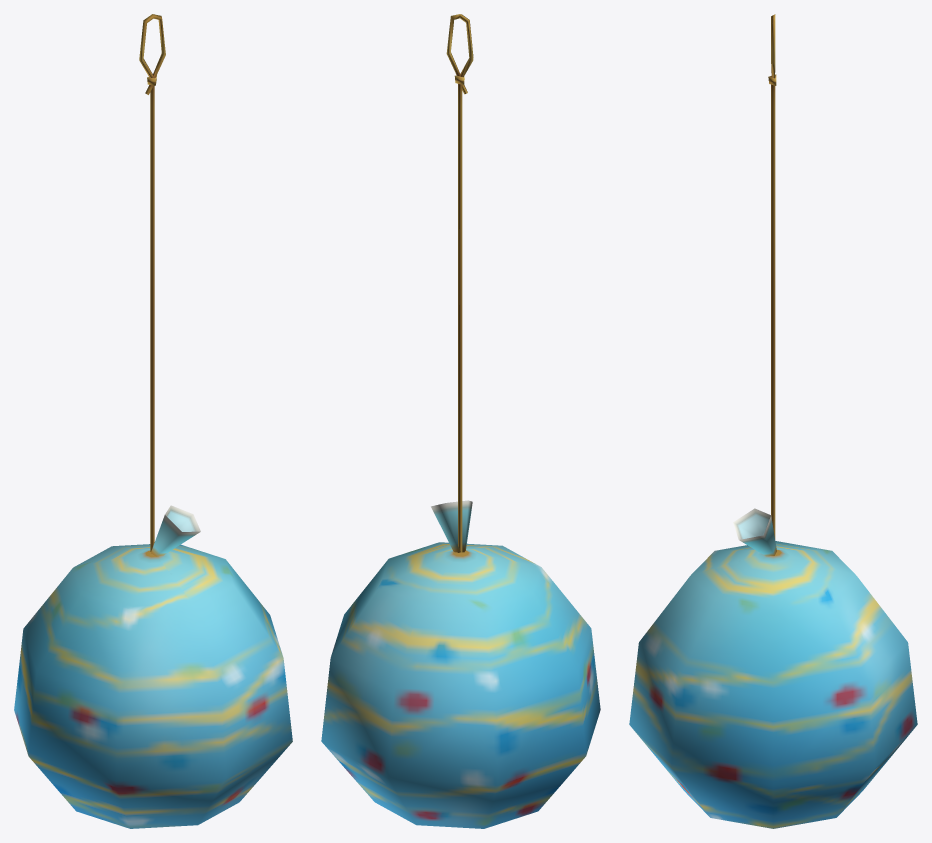
Rendered from jsf_WaterBalloon_10_a.fbx.
3 views of the same model, side by side, from view 1: azimuth 30°, elevation 25°; view 2: azimuth 150°, elevation 25°; view 3: azimuth 270°, elevation 25° (orthographic).
Parts seen in each view (by area): view 1: jsf_WaterBalloon_10_a; view 2: jsf_WaterBalloon_10_a; view 3: jsf_WaterBalloon_10_a.
Part boxes in pixels (x1,y1,x2,y2): jsf_WaterBalloon_10_a: (14,14,292,828); jsf_WaterBalloon_10_a: (321,14,600,828); jsf_WaterBalloon_10_a: (629,14,917,828).
Size of the model in its own units: 10.92 by 33.54 by 10.92.
